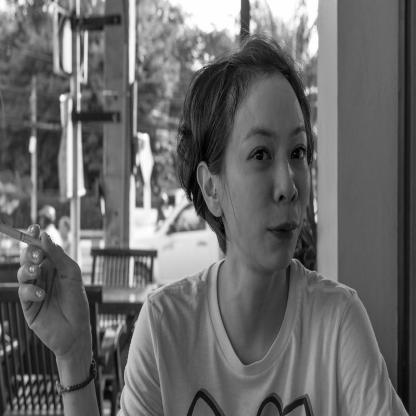smoking: (0, 223, 44, 250)
